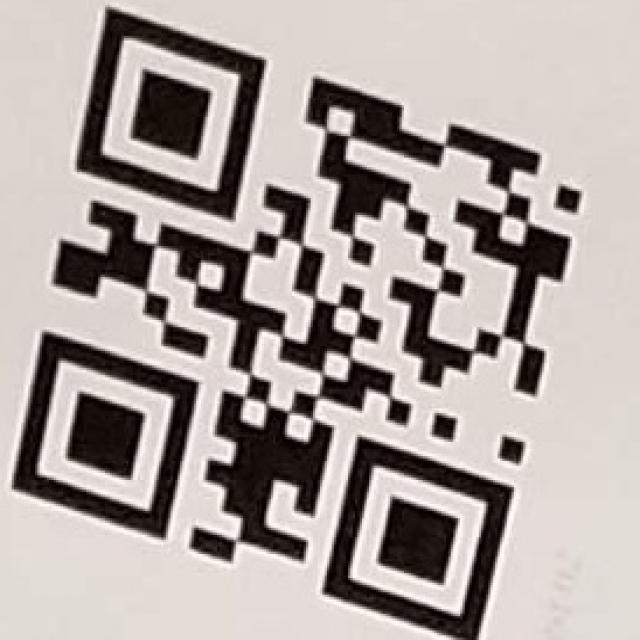QR_CODE: (8, 5, 583, 638)
